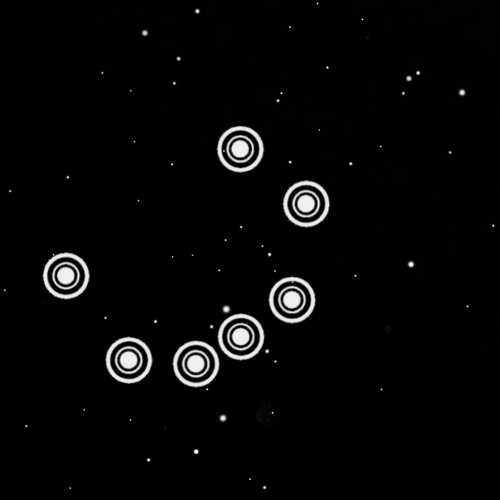corona_borealis: (39, 112, 332, 390)
